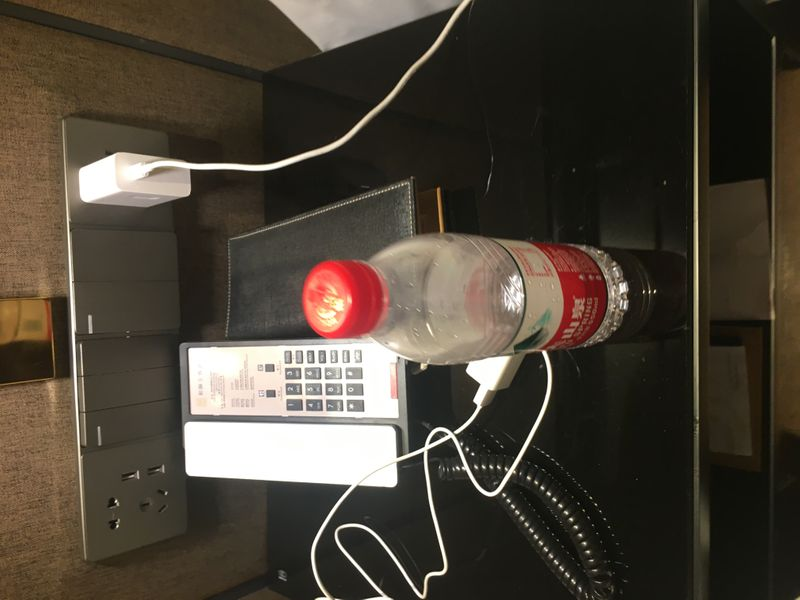5eca67a90202601e8cb8d104: (296, 237, 628, 367)
